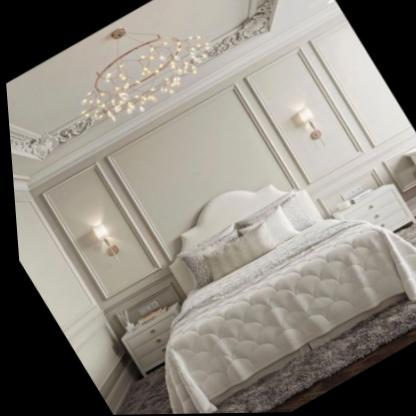Futec frame: (90, 78, 311, 279), (228, 12, 416, 198), (27, 152, 171, 310)
